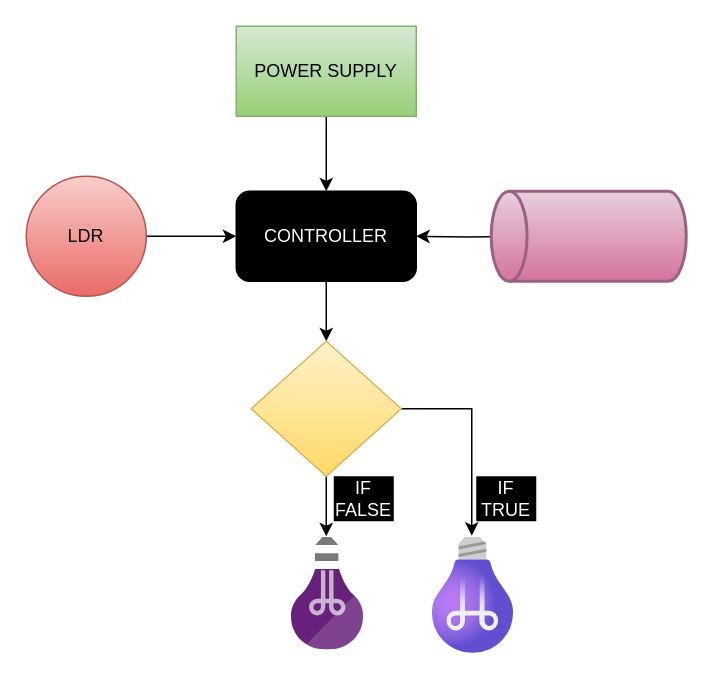
Some shapes in this 714 by 678 pixel diagram are drawn without their labels. Each missing label, with the box of its shape:
IF PERSON DETECTED: (250, 340, 401, 476)
ULTRASONIC: (489, 189, 687, 282)
